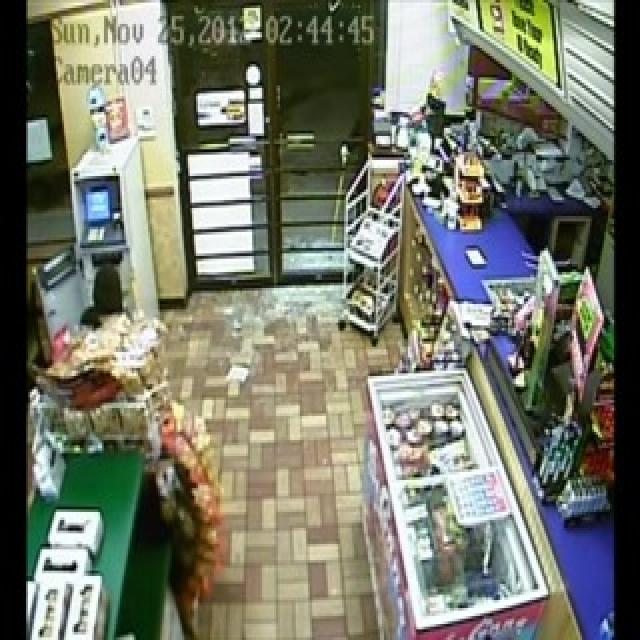thief: (85, 261, 138, 323)
